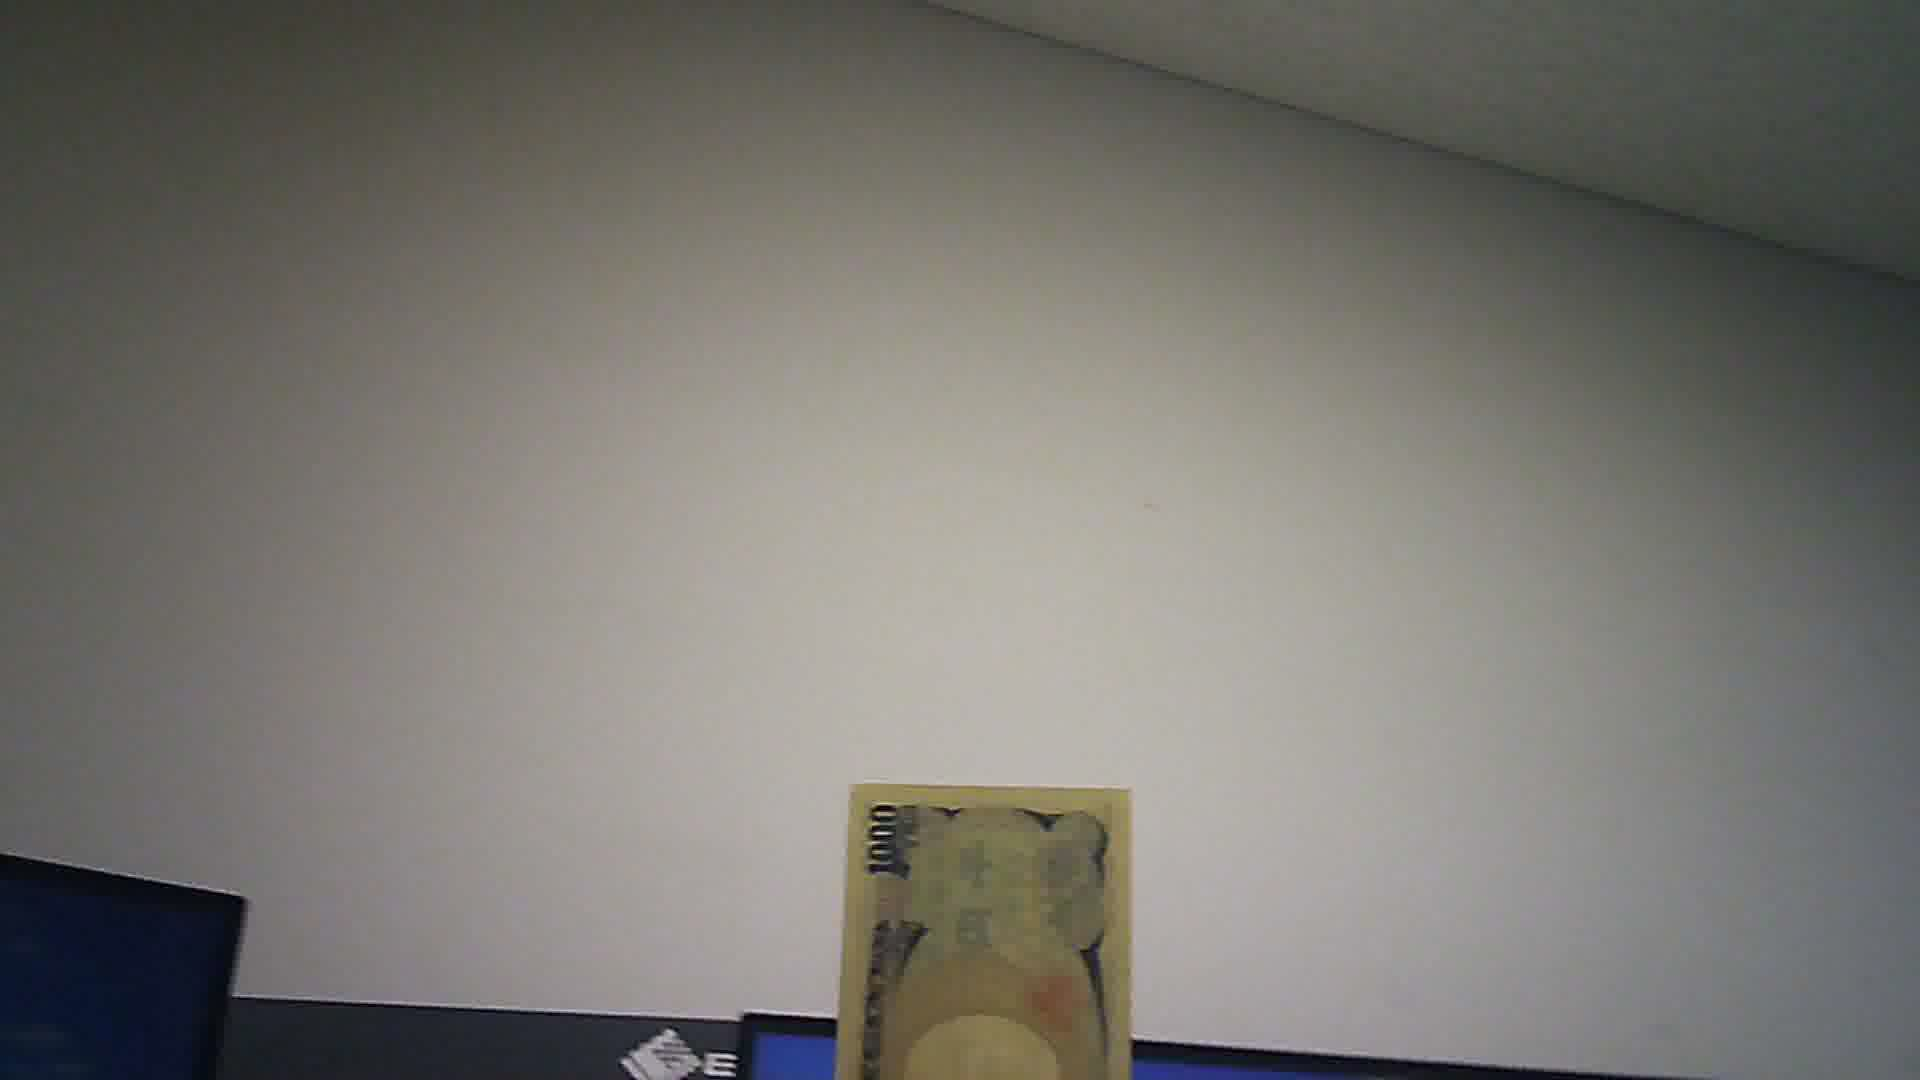1,000 Yen: (844, 781, 1124, 1079)
